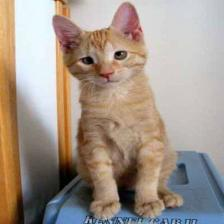cat: (47, 3, 166, 87)
